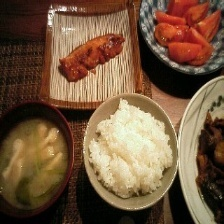rice: (85, 96, 175, 203)
